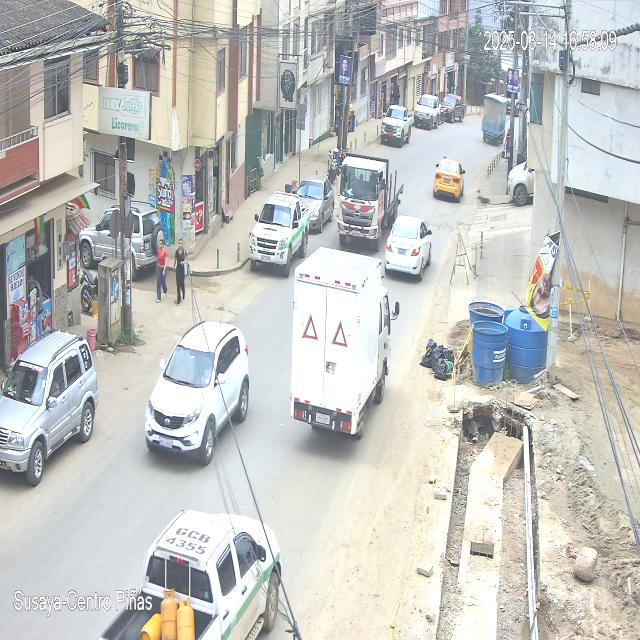CMT: (102, 510, 282, 640)
SUV: (144, 321, 250, 467)
TRUCK: (292, 247, 394, 442)
